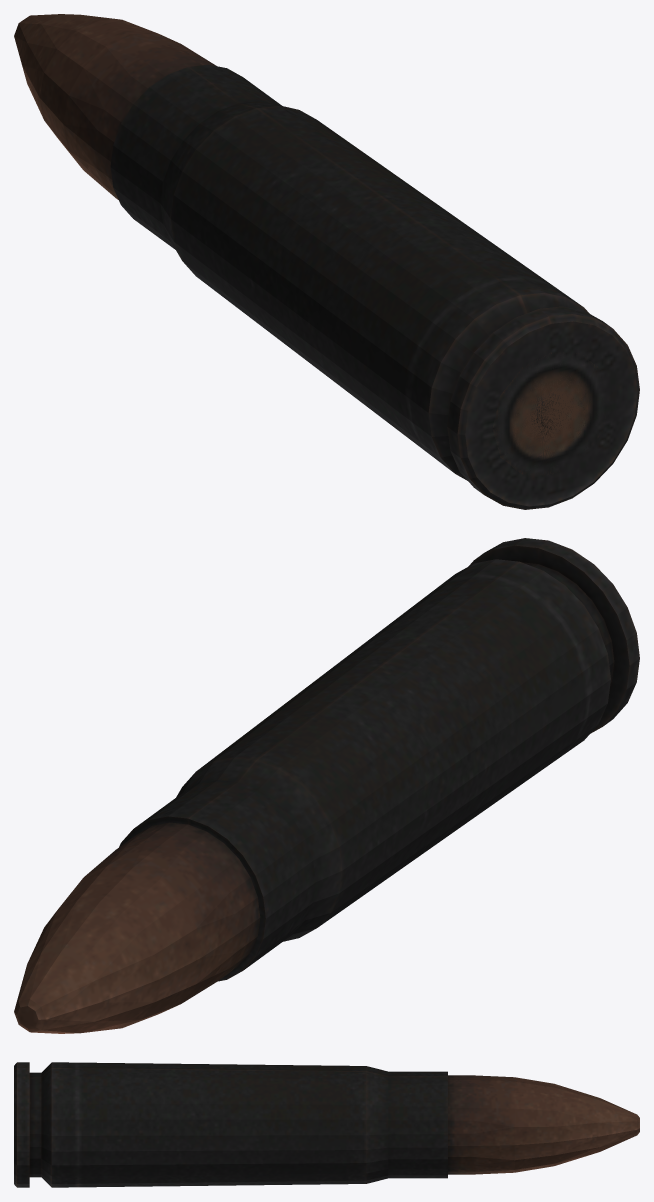
3 views of the same model, one above another, from view 1: azimuth 30°, elevation 25°; view 2: azimuth 150°, elevation 25°; view 3: azimuth 270°, elevation 25° (orthographic). The views are drawn at different scales.
Parts seen in each view (by area): view 1: TW_6576f96220d53a5b8f3e395e_PZ_Import; view 2: TW_6576f96220d53a5b8f3e395e_PZ_Import; view 3: TW_6576f96220d53a5b8f3e395e_PZ_Import.
Boxes of the visible parts, x1,y1,x2,y2 form: TW_6576f96220d53a5b8f3e395e_PZ_Import: (14,14,639,509); TW_6576f96220d53a5b8f3e395e_PZ_Import: (14,538,639,1033); TW_6576f96220d53a5b8f3e395e_PZ_Import: (14,1062,639,1187).
Size of the model in its own units: 0.00649 by 0.0323 by 0.00649.
Materials: 1 (1 with a texture image).
